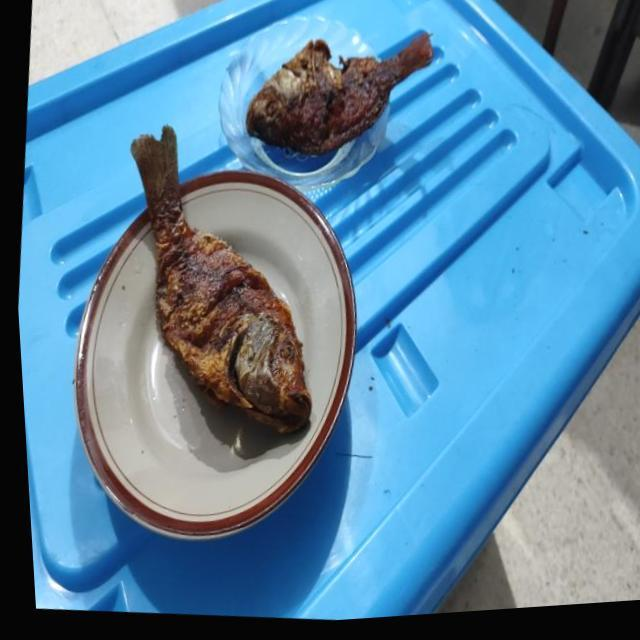ikan_mujair: (131, 125, 311, 432), (245, 32, 432, 159)
